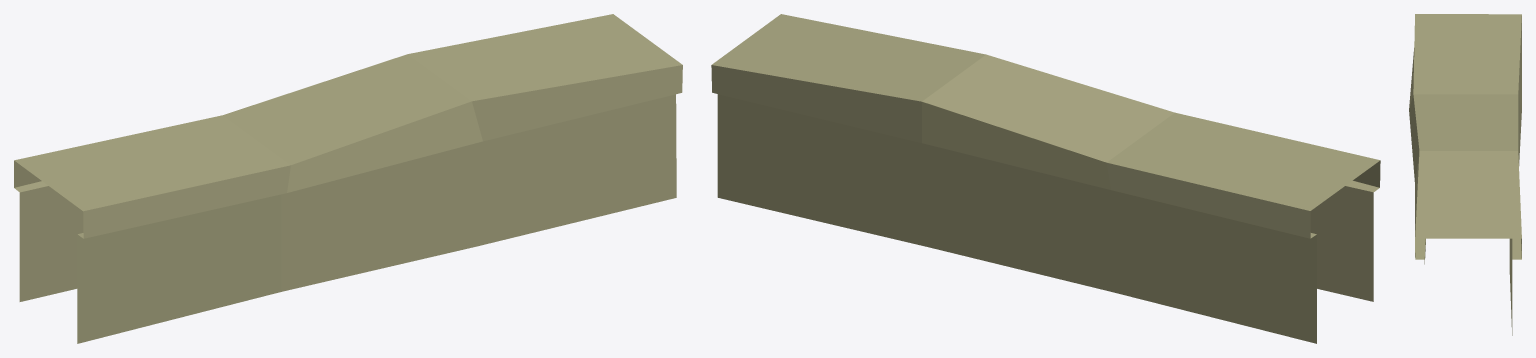
File: fence_2_mat.fbx
3 views of the same model, side by side, from view 1: azimuth 30°, elevation 25°; view 2: azimuth 150°, elevation 25°; view 3: azimuth 270°, elevation 25° (orthographic). The views are drawn at different scales.
Parts seen in each view (by area): view 1: fence_2_mat; view 2: fence_2_mat; view 3: fence_2_mat.
Boxes of the visible parts, box(x1,y1,x2,y2) form: fence_2_mat: box(14, 14, 682, 343); fence_2_mat: box(711, 14, 1380, 343); fence_2_mat: box(1409, 14, 1521, 335).
Size of the model in its own units: 638 by 152 by 136.
